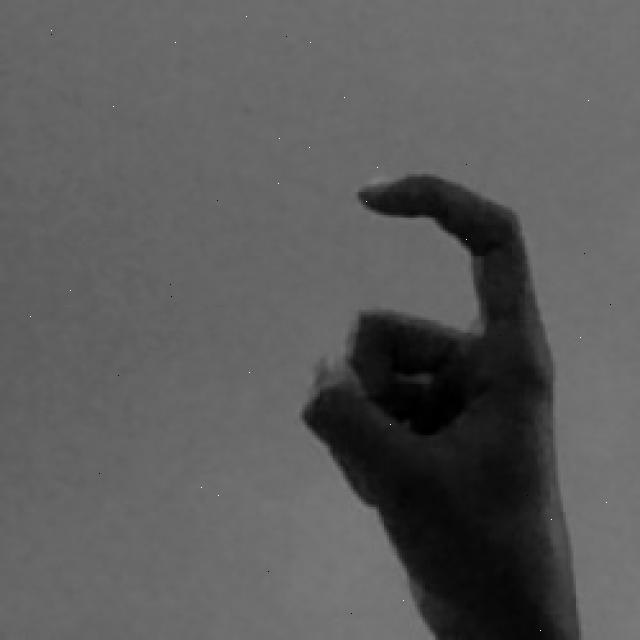X: (289, 164, 576, 640)
